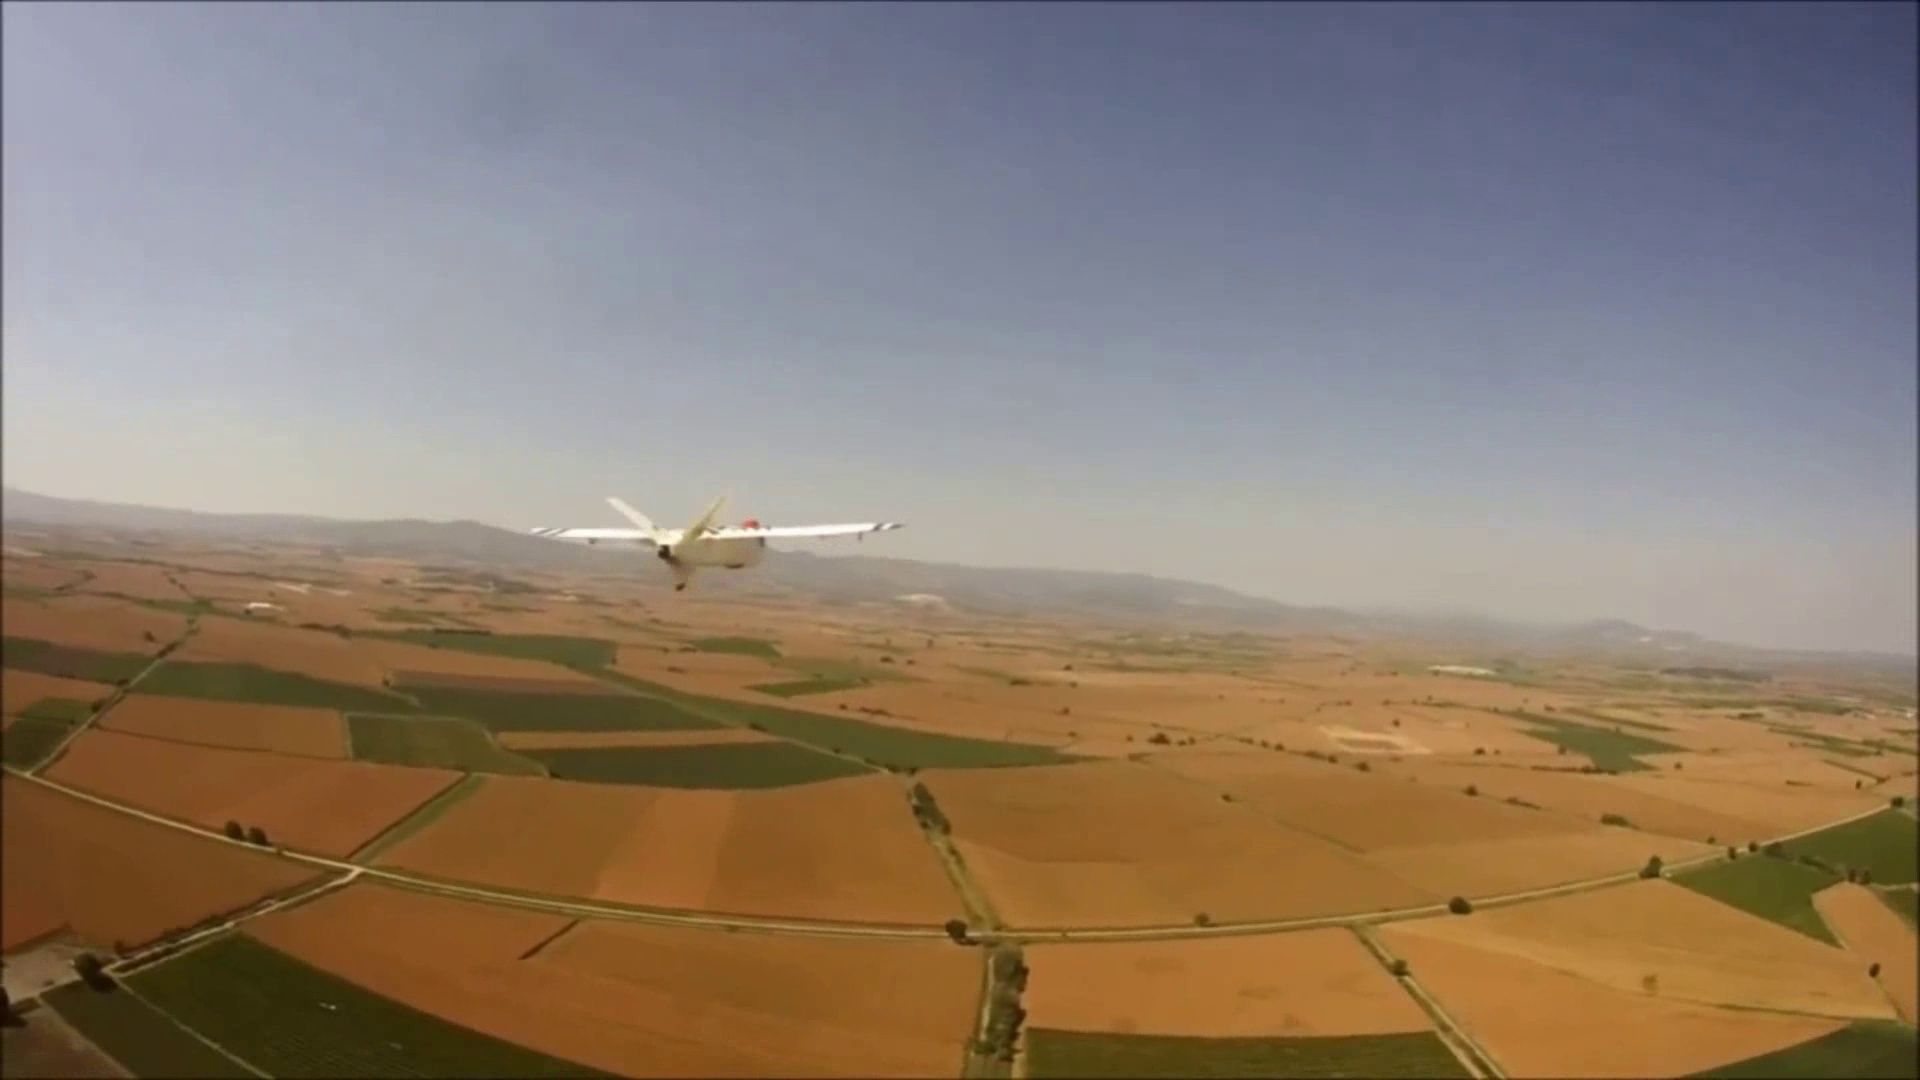airplane: (525, 489, 906, 586)
